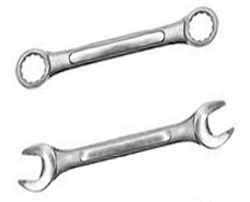Wrench: (12, 99, 235, 189)
